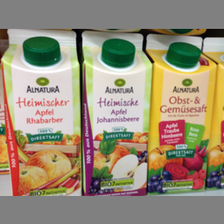juice: (1, 29, 82, 195), (81, 30, 152, 196), (145, 34, 217, 193)
